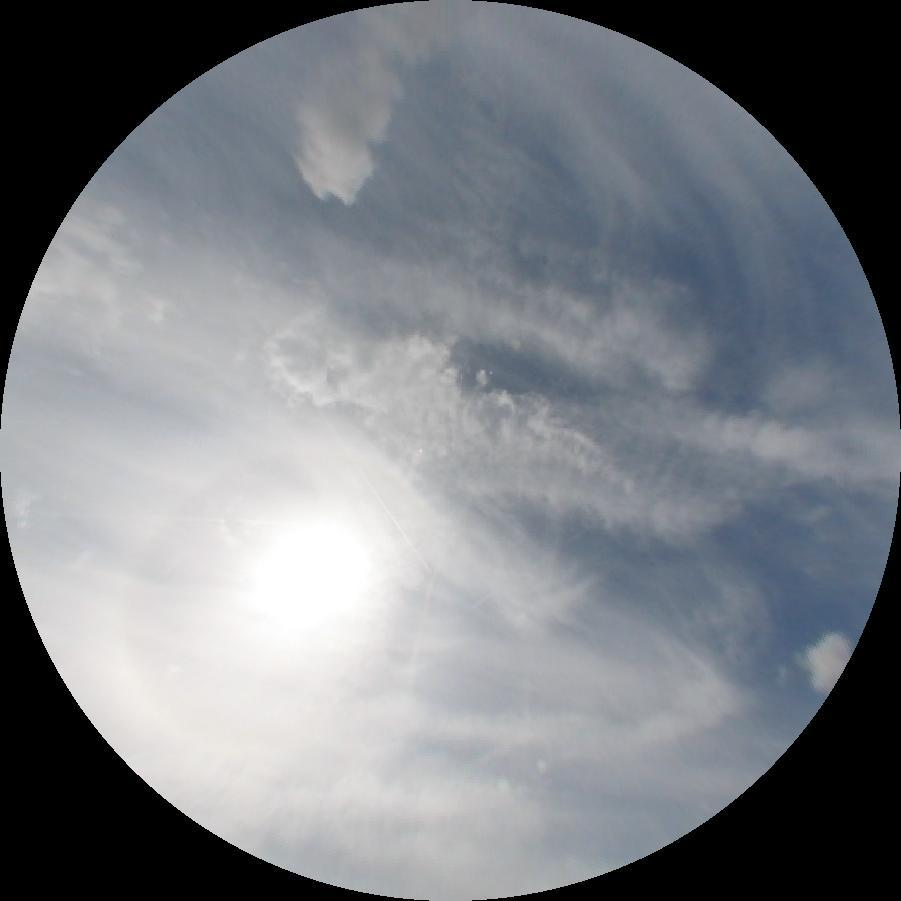contrail young: (317, 409, 431, 572), (471, 526, 588, 608)
parasite: (25, 510, 297, 524)
sun: (234, 497, 390, 656)
